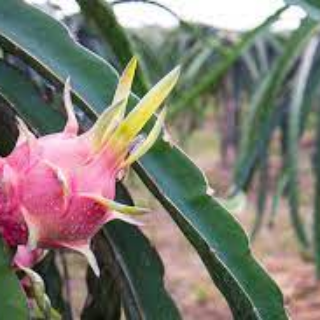thanh_long: (1, 125, 157, 271)
